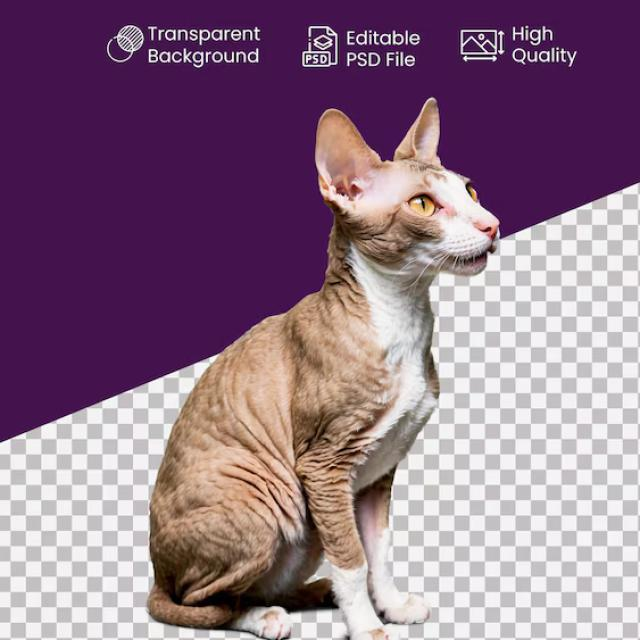Cornish Rex: (141, 86, 506, 640)
